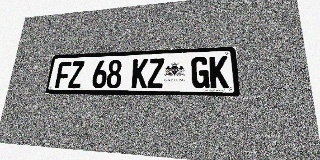6: (91, 60, 108, 88)
8: (106, 60, 123, 88)
F: (55, 62, 71, 88)
G: (191, 56, 209, 88)
K: (209, 56, 229, 88), (131, 59, 148, 88)
Z: (147, 58, 164, 88), (68, 61, 84, 88)
